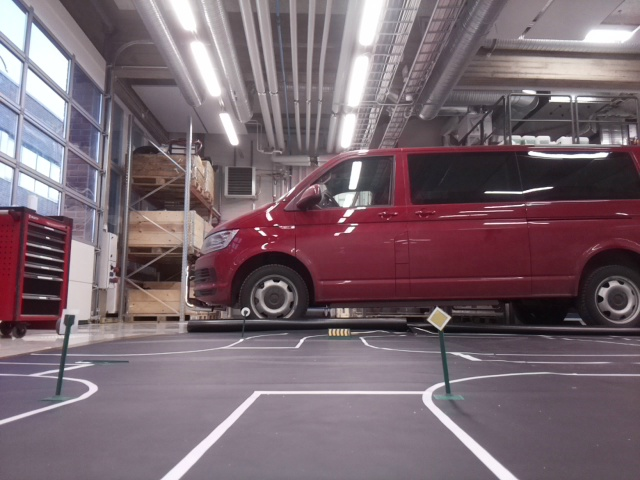Priority: (426, 306, 449, 328)
